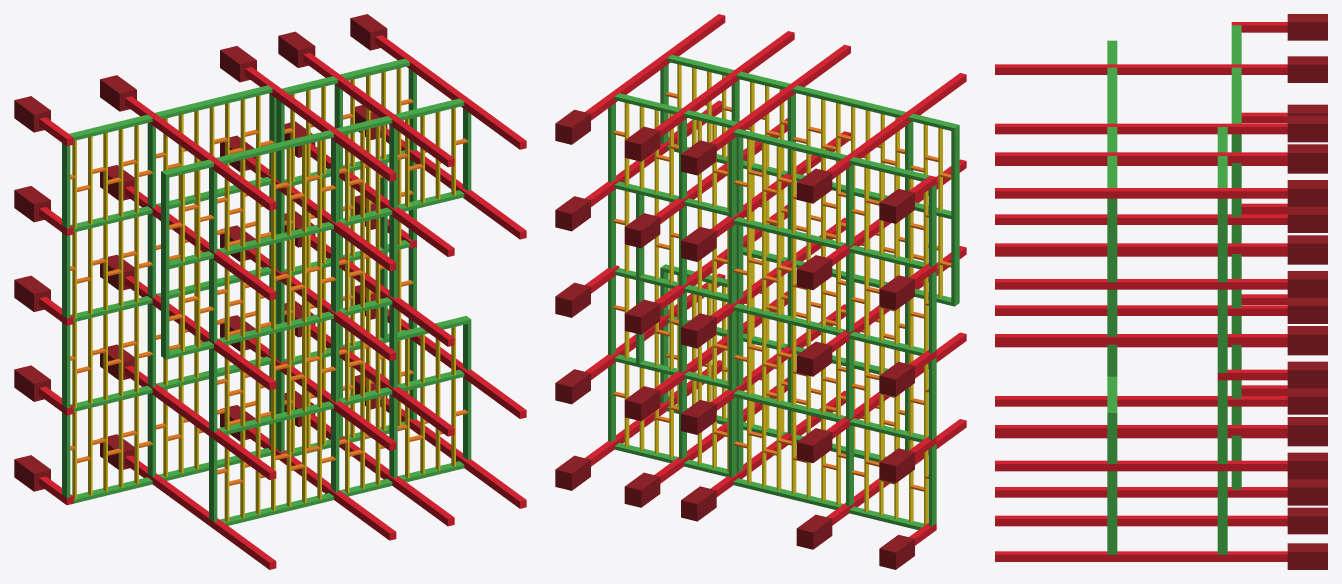
The model's file is tinker.obj.
3 views of the same model, side by side, from view 1: azimuth 30°, elevation 25°; view 2: azimuth 150°, elevation 25°; view 3: azimuth 270°, elevation 25° (orthographic). The views are drawn at different scales.
Visible parts, largest first — view 1: obj_2, obj_1, obj_3, obj_4, obj_20, obj_15, obj_6, obj_11, obj_21, obj_16, obj_7, obj_12 (+56 smaller); view 2: obj_1, obj_4, obj_3, obj_2, obj_9, obj_7, obj_21, obj_23, obj_16, obj_12, obj_20, obj_15 (+68 smaller); view 3: obj_18, obj_2, obj_22, obj_4, obj_9, obj_23, obj_13, obj_1, obj_3, obj_8, obj_17, obj_16 (+46 smaller).
Part boxes in pixels (left/top/right/bottom): obj_2: left=245, top=67, right=396, bottom=181; obj_1: left=125, top=96, right=276, bottom=210; obj_3: left=303, top=53, right=454, bottom=167; obj_4: left=375, top=35, right=526, bottom=149; obj_20: left=125, top=455, right=276, bottom=569; obj_15: left=125, top=365, right=276, bottom=479; obj_6: left=125, top=186, right=276, bottom=300; obj_11: left=125, top=276, right=276, bottom=390; obj_21: left=245, top=428, right=396, bottom=540; obj_16: left=245, top=338, right=396, bottom=450; obj_7: left=245, top=157, right=396, bottom=271; obj_12: left=245, top=248, right=396, bottom=360; obj_1: left=826, top=73, right=966, bottom=179; obj_4: left=585, top=14, right=725, bottom=120; obj_3: left=654, top=31, right=794, bottom=137; obj_2: left=710, top=44, right=850, bottom=150; obj_9: left=585, top=100, right=721, bottom=206; obj_7: left=710, top=131, right=850, bottom=237; obj_21: left=710, top=390, right=845, bottom=496; obj_23: left=585, top=360, right=721, bottom=466; obj_16: left=710, top=304, right=845, bottom=410; obj_12: left=710, top=217, right=845, bottom=323; obj_20: left=826, top=419, right=966, bottom=525; obj_15: left=826, top=332, right=966, bottom=438; obj_18: left=995, top=460, right=1287, bottom=471; obj_2: left=995, top=123, right=1287, bottom=134; obj_22: left=995, top=515, right=1287, bottom=526; obj_4: left=995, top=188, right=1287, bottom=198; obj_9: left=995, top=279, right=1287, bottom=289; obj_23: left=995, top=551, right=1287, bottom=561; obj_13: left=995, top=334, right=1287, bottom=344; obj_1: left=995, top=64, right=1287, bottom=74; obj_3: left=995, top=152, right=1287, bottom=162; obj_8: left=995, top=243, right=1287, bottom=253; obj_17: left=995, top=425, right=1287, bottom=435; obj_16: left=995, top=396, right=1287, bottom=406.
Bounding box in the file's own units: 103 × 105 × 83.
